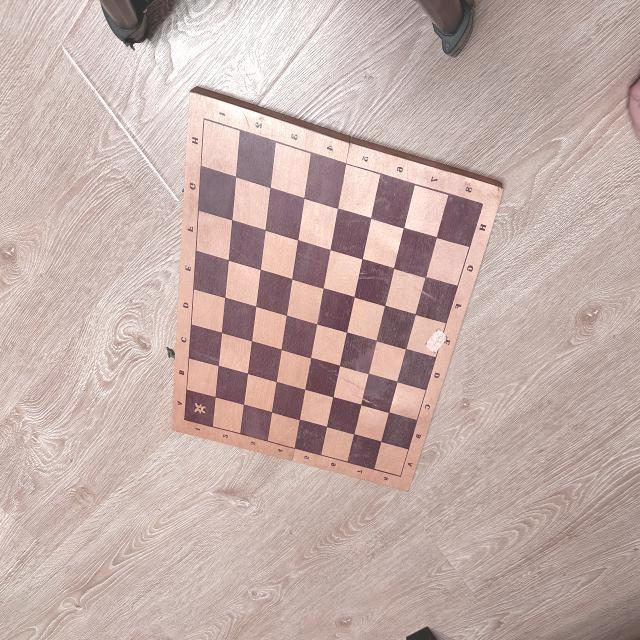chess-table-corners: (477, 200, 488, 210), (200, 114, 208, 125), (396, 472, 404, 481), (181, 416, 189, 424)
